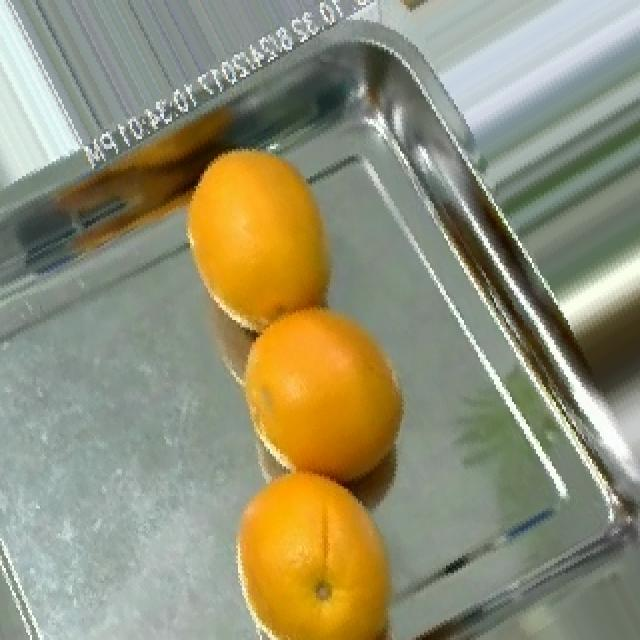Fruit: (158, 122, 356, 352)
